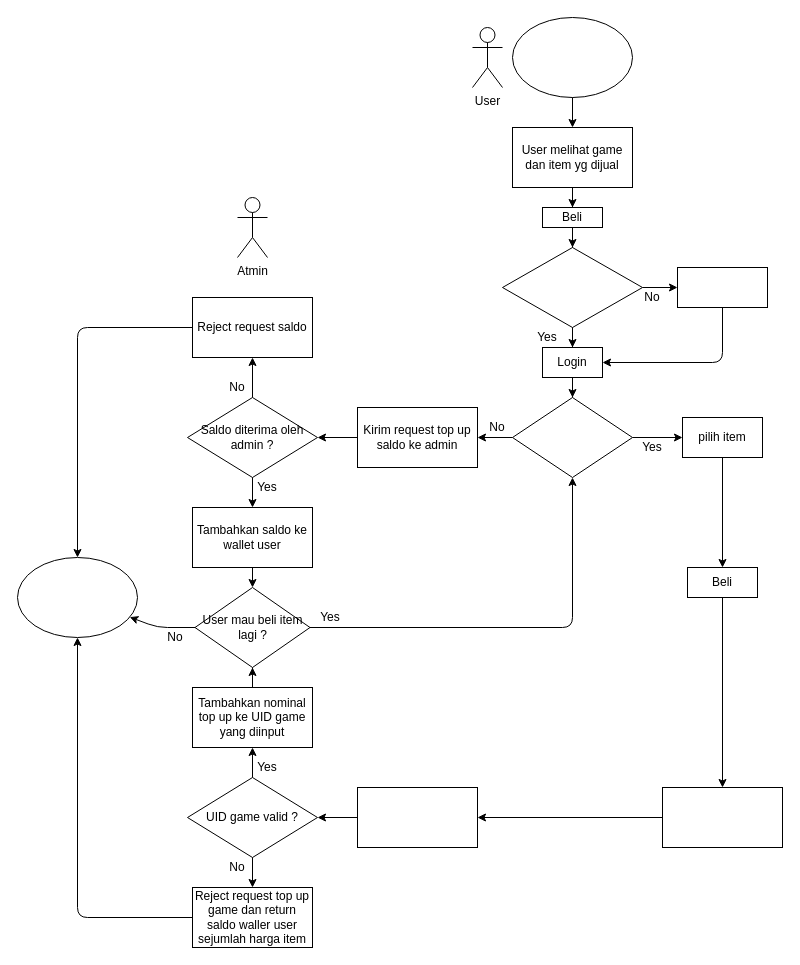
The diagram is 800 pixels wide and 965 high, and some of its shapes have lost their labels. The shapes that lost their labels are listed below. From the top down, each one's centre as x and y in pixels, then its label:
At point (572, 57): "START".
At point (572, 287): "Sudah punya akun ?".
At point (722, 287): "Daftar/Sign up".
At point (572, 437): "Saldo wallet cukup ?".
At point (77, 597): "END".
At point (417, 817): "Kirim request topup game ke admin".
At point (722, 817): "Saldo wallet user dikurangi dengan harga item".
